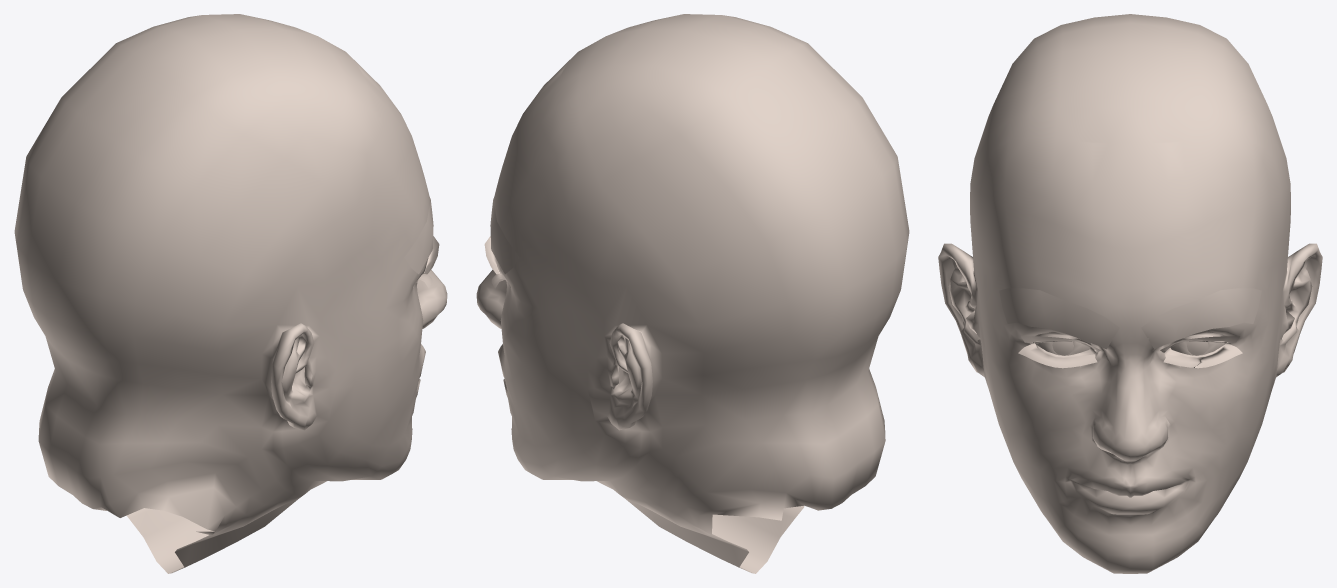
The model's file is Head.dae.
3 renders of one model, left to right at view 1: azimuth 30°, elevation 25°; view 2: azimuth 150°, elevation 25°; view 3: azimuth 270°, elevation 25°, orthographic.
Parts seen in each view (by area): view 1: Head; view 2: Head; view 3: Head.
Boxes of the visible parts, left/top/right/bottom form: Head: left=14, top=14, right=447, bottom=573; Head: left=476, top=14, right=909, bottom=573; Head: left=938, top=14, right=1322, bottom=573.
Bounding box in the file's own units: 0.2205 × 0.1854 × 0.2754.
